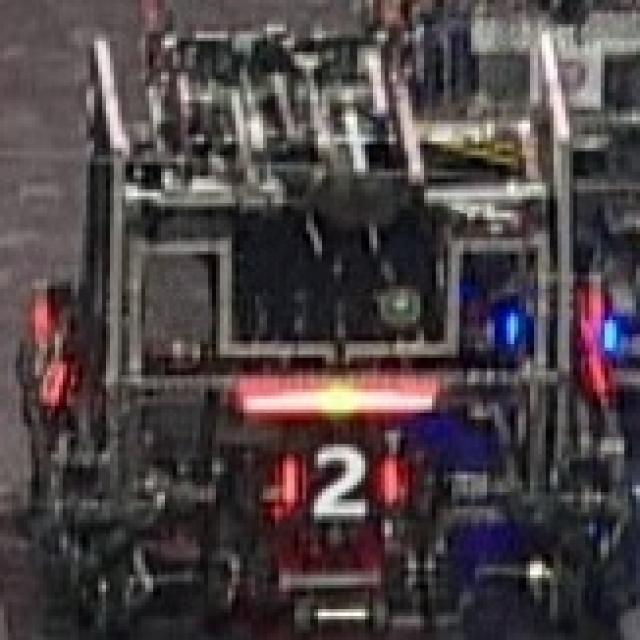R2: (271, 430, 396, 520)
